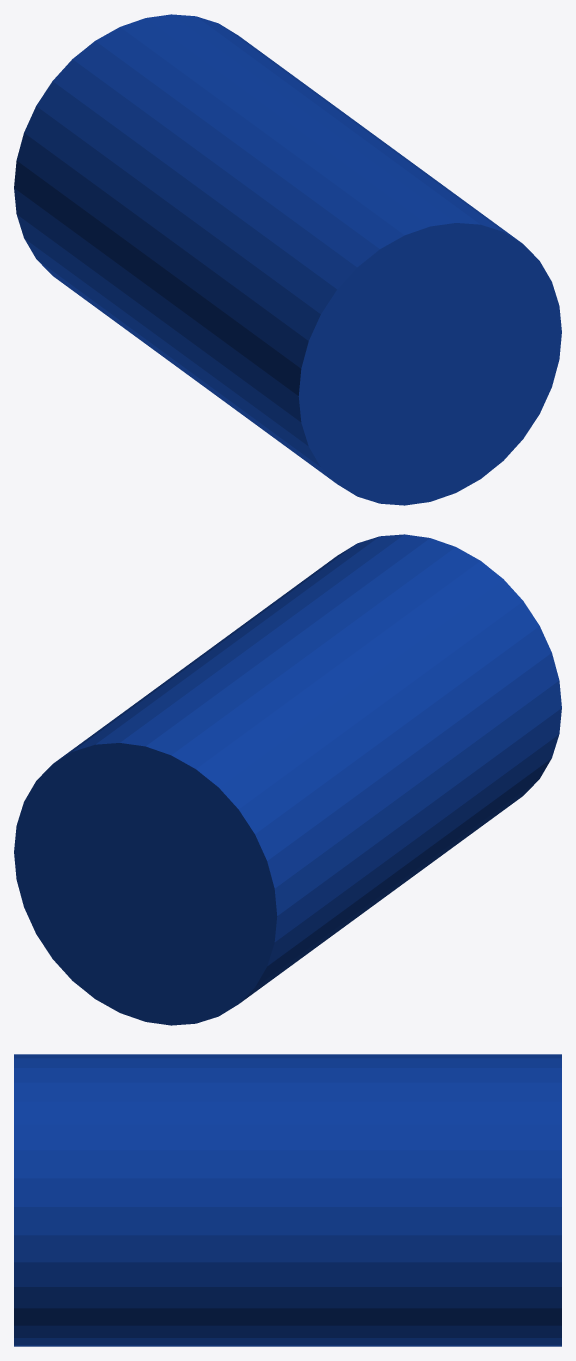
The model's file is arm_link5.OBJ.
3 renders of one model, top to bottom at view 1: azimuth 30°, elevation 25°; view 2: azimuth 150°, elevation 25°; view 3: azimuth 270°, elevation 25°, orthographic. The views are drawn at different scales.
Parts seen in each view (by area): view 1: arm_link5_Cylinder.006; view 2: arm_link5_Cylinder.006; view 3: arm_link5_Cylinder.006.
Part boxes in pixels (<box>): arm_link5_Cylinder.006: <box>14,14,561,505</box>; arm_link5_Cylinder.006: <box>14,534,561,1025</box>; arm_link5_Cylinder.006: <box>14,1054,561,1346</box>.
Bounding box in the file's own units: 0.2494 × 0.2494 × 0.4674.
